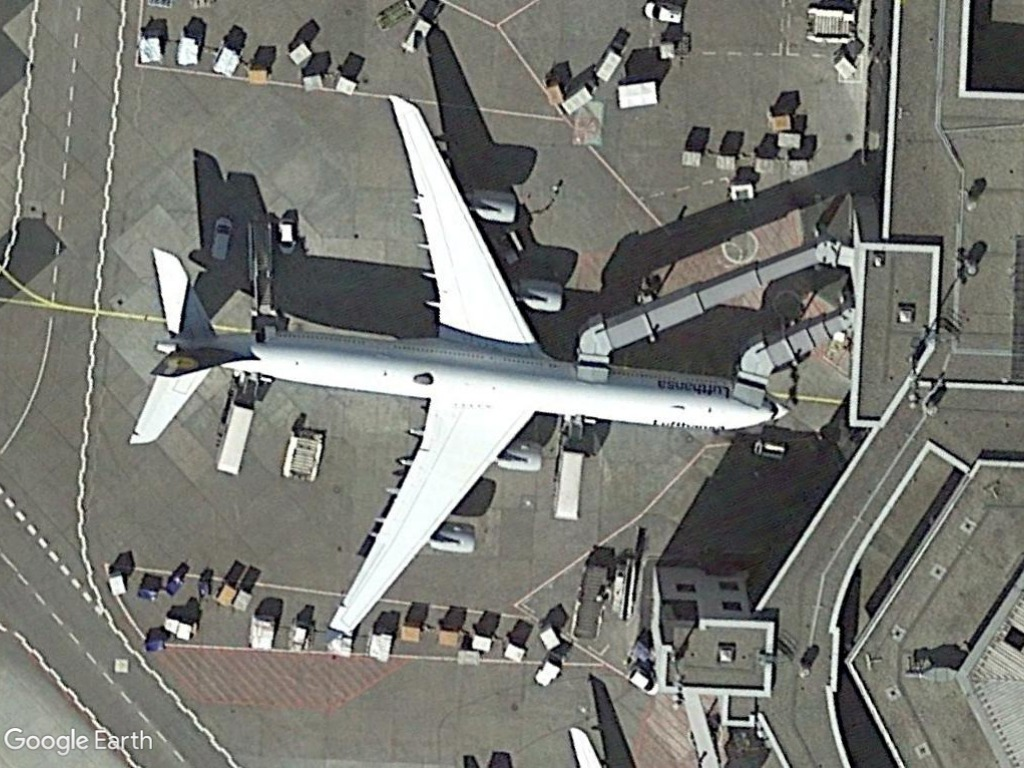airliner: (111, 71, 804, 650)
